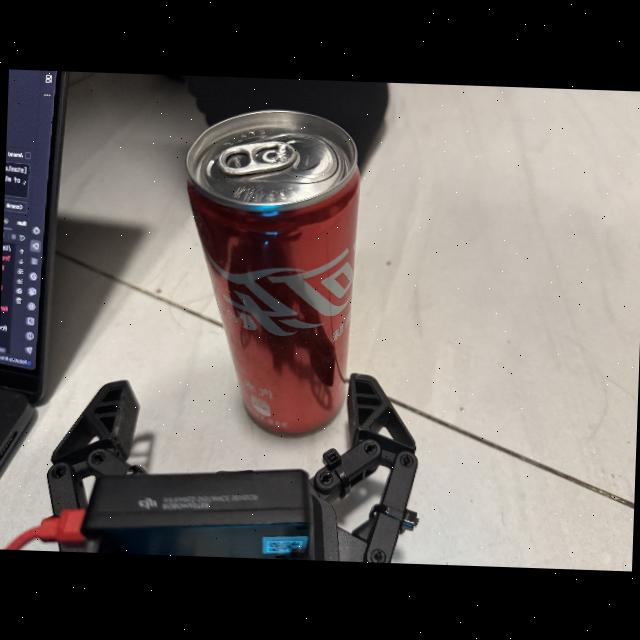Cola: (165, 98, 372, 450)
